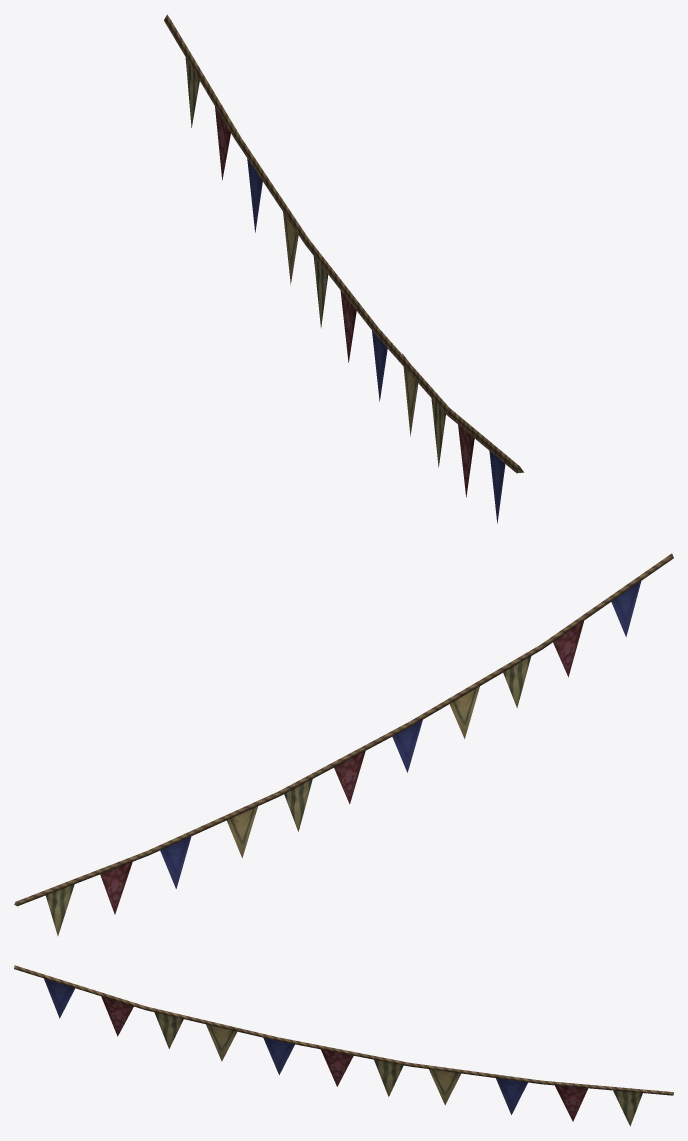
The model's file is common_city_qizhi01.FBX.
The picture shows the model from 3 angles, top to bottom: view 1: azimuth 30°, elevation 25°; view 2: azimuth 150°, elevation 25°; view 3: azimuth 270°, elevation 25°; orthographic projection. The views are drawn at different scales.
Parts seen in each view (by area): view 1: common_city_qizhi01; view 2: common_city_qizhi01; view 3: common_city_qizhi01.
Part boxes in pixels (left/top/right/bottom): common_city_qizhi01: left=164, top=14, right=523, bottom=523; common_city_qizhi01: left=14, top=553, right=673, bottom=935; common_city_qizhi01: left=14, top=965, right=673, bottom=1126.
Bounding box in the file's own units: 2.66 × 9.73 × 1.53.
